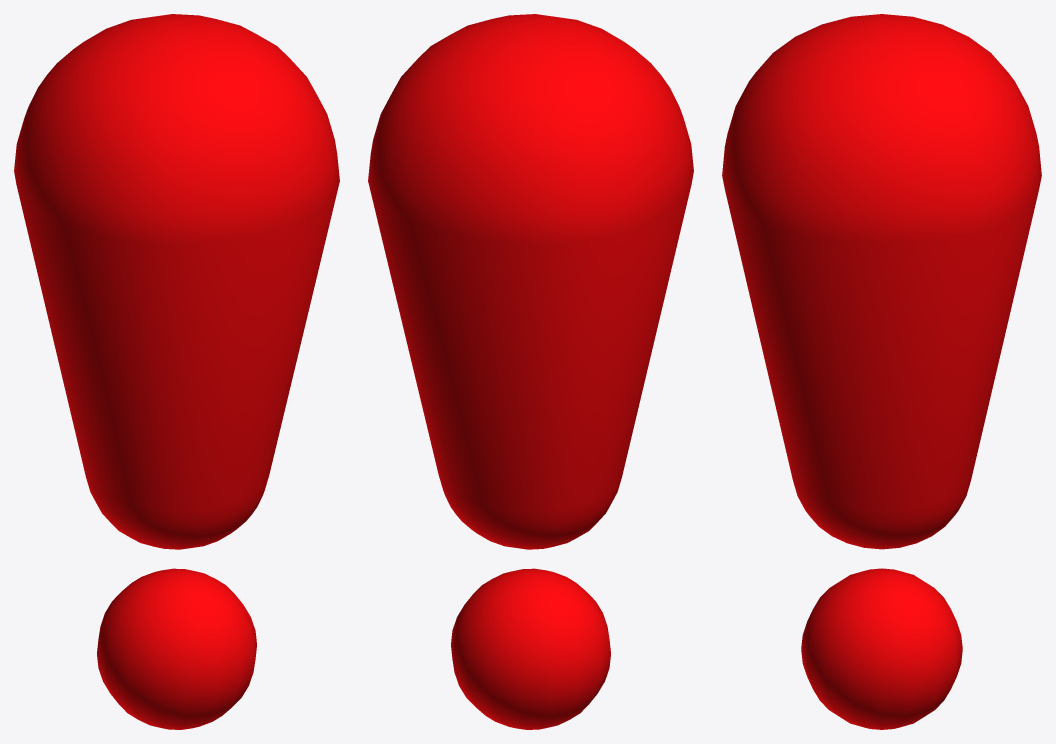
The model's file is shock.fbx.
3 renders of one model, left to right at view 1: azimuth 30°, elevation 25°; view 2: azimuth 150°, elevation 25°; view 3: azimuth 270°, elevation 25°, orthographic.
Parts seen in each view (by area): view 1: shock; view 2: shock; view 3: shock.
Boxes of the visible parts, left/top/right/bottom form: shock: left=14, top=14, right=339, bottom=729; shock: left=368, top=14, right=693, bottom=729; shock: left=722, top=14, right=1041, bottom=729.
Bounding box in the file's own units: 115 × 275 × 115.
Materials: 1 (1 with a texture image).
